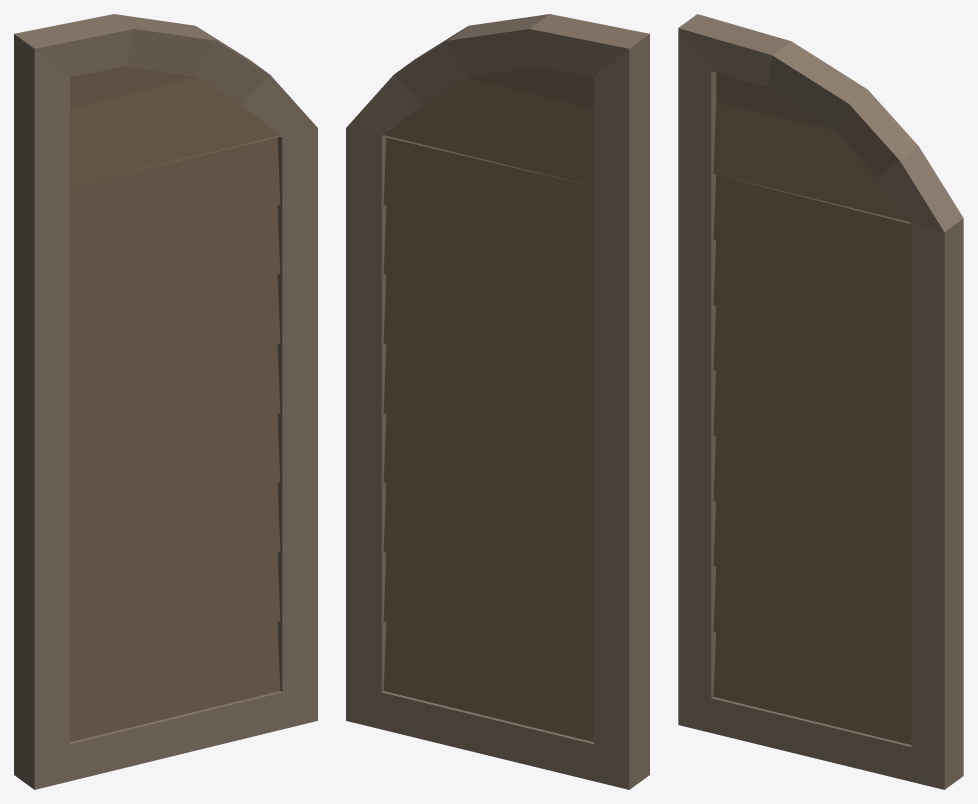
File: victorian_window_1_shutter_r.fbx
The picture shows the model from 3 angles, left to right: view 1: azimuth 30°, elevation 25°; view 2: azimuth 150°, elevation 25°; view 3: azimuth 330°, elevation 25°; orthographic projection. The views are drawn at different scales.
Parts seen in each view (by area): view 1: shutter_r; view 2: shutter_r; view 3: shutter_r.
Part boxes in pixels (x1=…): shutter_r: x1=14, y1=14, x2=317, y2=789; shutter_r: x1=346, y1=14, x2=649, y2=789; shutter_r: x1=678, y1=14, x2=963, y2=789.
Size of the model in its own units: 80 by 200 by 10.
